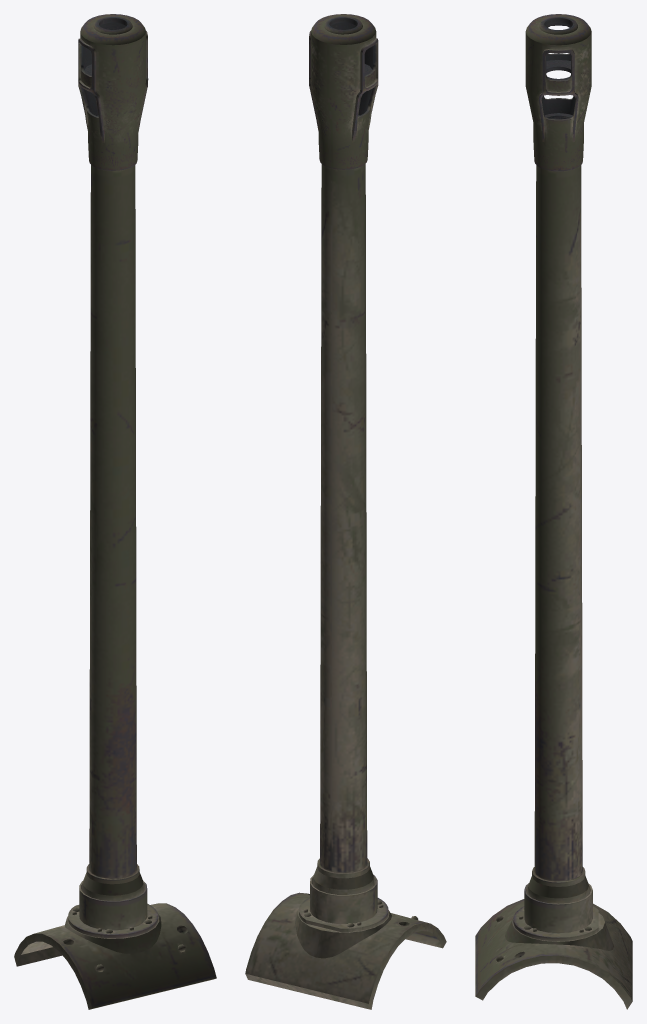
File: Gun_01.glb
3 renders of one model, left to right at view 1: azimuth 30°, elevation 25°; view 2: azimuth 150°, elevation 25°; view 3: azimuth 270°, elevation 25°, orthographic.
Parts seen in each view (by area): view 1: set_0_group_0; view 2: set_0_group_0; view 3: set_0_group_0.
Boxes of the visible parts, x1=… form: set_0_group_0: x1=14, y1=14, x2=216, y2=1009; set_0_group_0: x1=245, y1=14, x2=446, y2=1009; set_0_group_0: x1=475, y1=14, x2=632, y2=1009.
Bounding box in the file's own units: 0.607 × 4.44 × 0.6609.
1 material, 1 textured.
